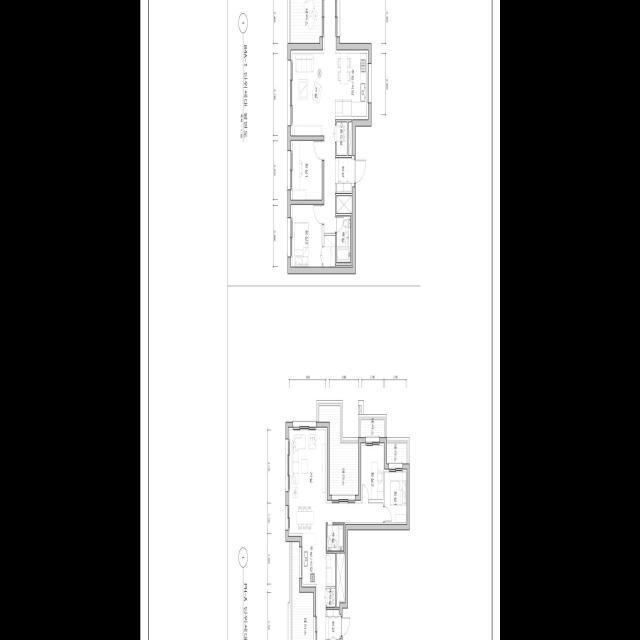background: (140, 0, 500, 640)
space_bedroom: (290, 205, 335, 267), (290, 141, 321, 200), (360, 443, 384, 500), (384, 469, 407, 524)
space_front: (335, 156, 354, 194), (326, 610, 341, 640)
space_kitchen: (288, 506, 317, 587), (335, 50, 368, 120)
space_living_room: (288, 428, 383, 640), (290, 0, 336, 233)
space_multipurpose_space: (336, 122, 347, 155)
space_other: (336, 553, 345, 607), (336, 196, 352, 214), (326, 588, 335, 607), (348, 122, 352, 155)
space_toilet: (336, 216, 350, 262), (327, 525, 343, 551)
